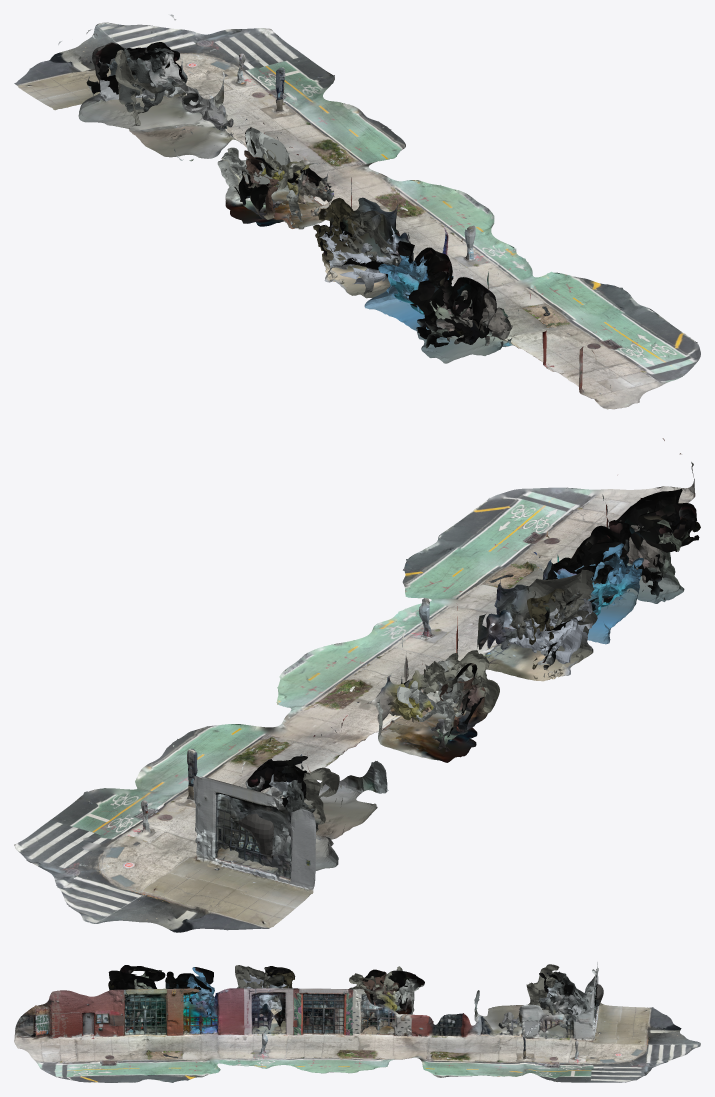
The model's file is 10_4_2026_Greenpoint_abandoned_model.glb.
3 views of the same model, one above another, from view 1: azimuth 30°, elevation 25°; view 2: azimuth 150°, elevation 25°; view 3: azimuth 270°, elevation 25° (orthographic). The views are drawn at different scales.
Bounding box in the file's own units: 15.76 × 5.22 × 59.05.
Materials: 5 (5 with a texture image).
